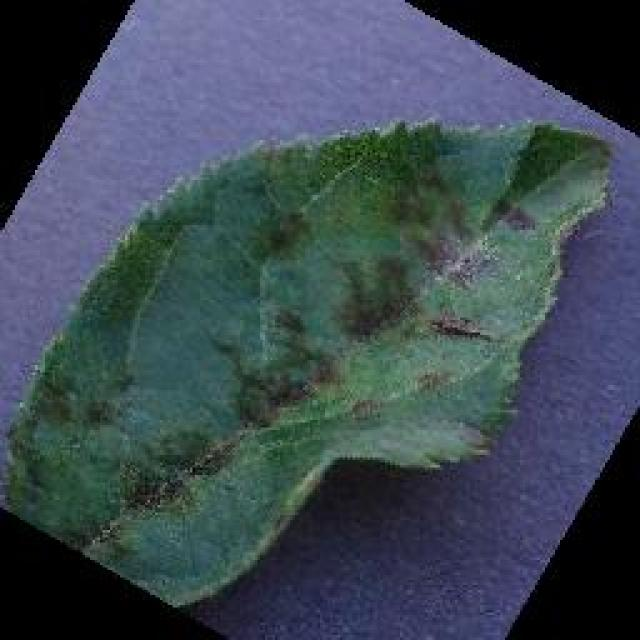apple scab disease: (0, 112, 615, 610)
